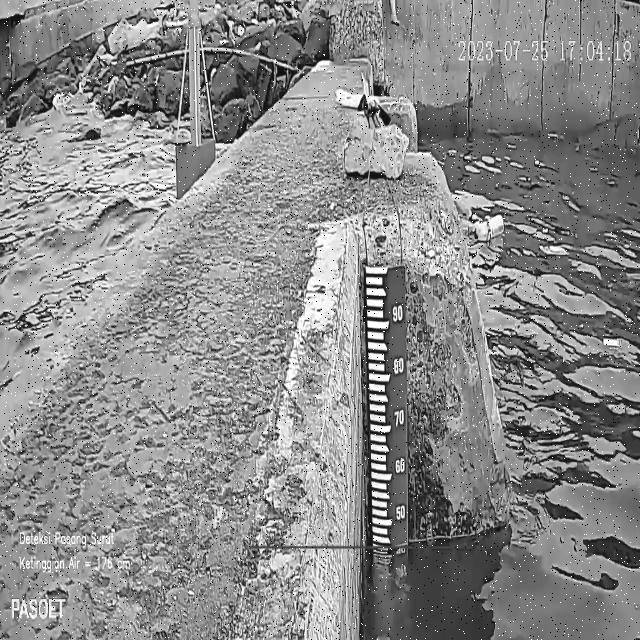50: (395, 504, 406, 522)
60: (395, 456, 405, 474)
70: (394, 409, 405, 426)
80: (392, 356, 404, 375)
90: (392, 305, 403, 323)
staff: (366, 266, 408, 544)
